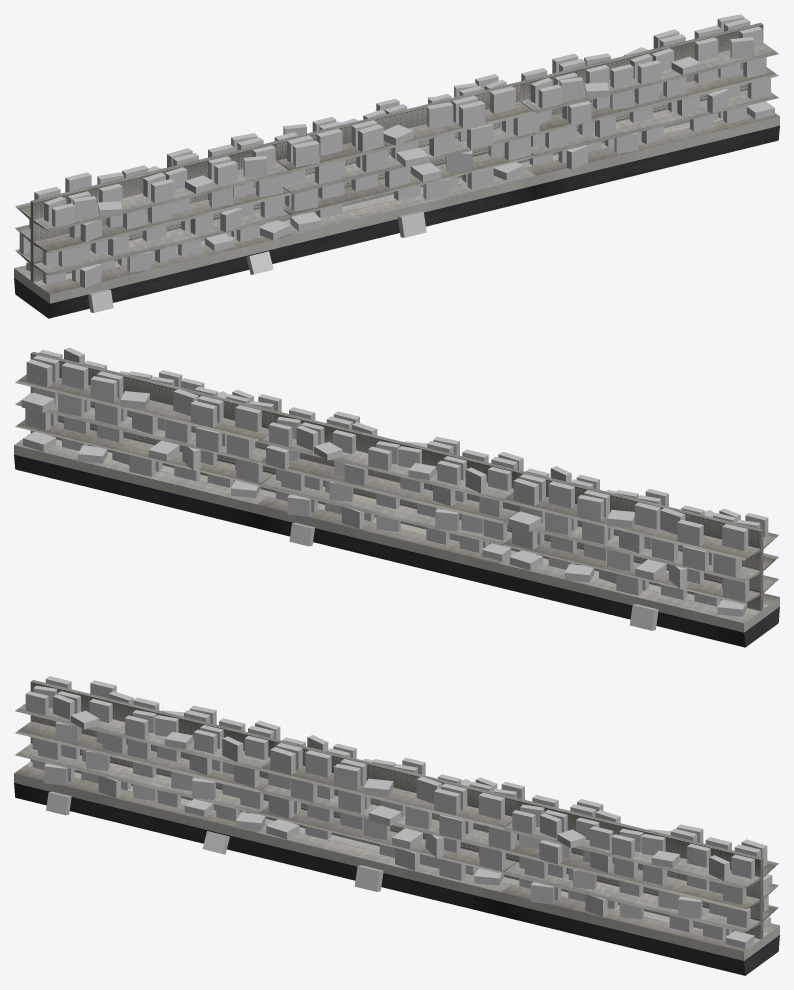
File: Messy_Food_Shelves.fbx
3 views of the same model, one above another, from view 1: azimuth 30°, elevation 25°; view 2: azimuth 150°, elevation 25°; view 3: azimuth 330°, elevation 25° (orthographic).
Parts seen in each view (by area): view 1: Messy_Food_Shelves; view 2: Messy_Food_Shelves; view 3: Messy_Food_Shelves.
Boxes of the visible parts, x1,y1,x2,y2 form: Messy_Food_Shelves: (14,14,779,318); Messy_Food_Shelves: (14,347,779,647); Messy_Food_Shelves: (14,676,779,975).
Size of the model in its own units: 1398 by 195 by 168.
